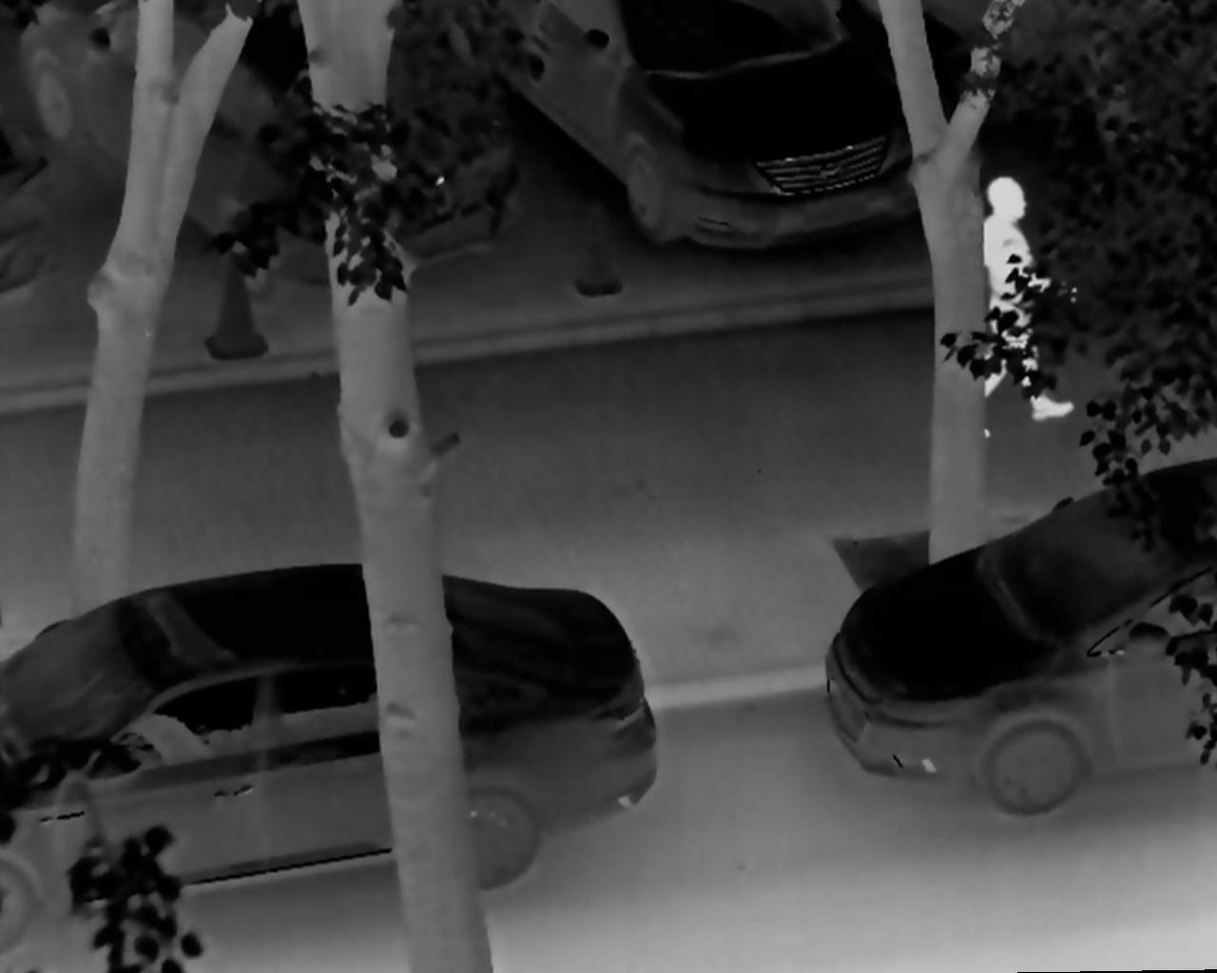person: (959, 168, 1080, 443)
